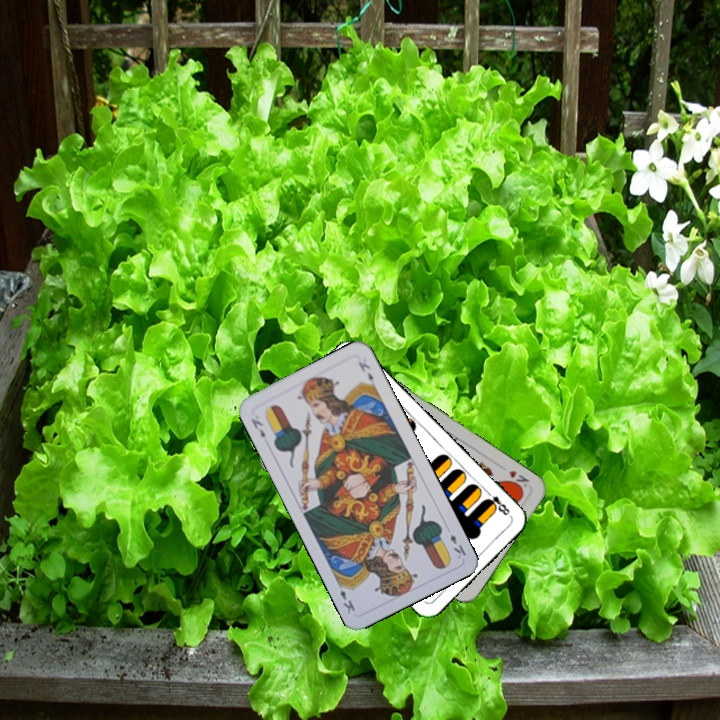E8: (481, 486, 512, 518)
EK: (446, 530, 469, 562), (247, 414, 268, 441)
HK: (504, 466, 532, 492)
